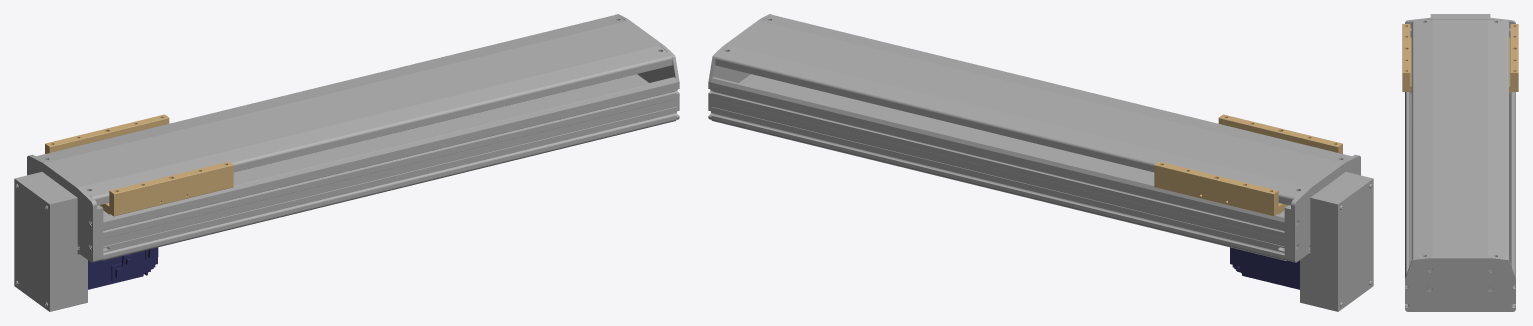
The model's file is ETH22_800.fbx.
3 renders of one model, left to right at view 1: azimuth 30°, elevation 25°; view 2: azimuth 150°, elevation 25°; view 3: azimuth 270°, elevation 25°, orthographic. The views are drawn at different scales.
Parts seen in each view (by area): view 1: ETH22_800-BODY, ETH22_800-SLIDER, ETH22_800-BODY001, ETH22_800-BODY002; view 2: ETH22_800-BODY, ETH22_800-SLIDER, ETH22_800-BODY001, ETH22_800-BODY002; view 3: ETH22_800-BODY, ETH22_800-BODY002, ETH22_800-SLIDER.
Boxes of the visible parts, x1,y1,x2,y2 form: ETH22_800-BODY: [14, 15, 676, 311]; ETH22_800-SLIDER: [45, 114, 233, 216]; ETH22_800-BODY001: [88, 247, 158, 289]; ETH22_800-BODY002: [615, 14, 679, 119]; ETH22_800-BODY: [711, 15, 1373, 311]; ETH22_800-SLIDER: [1154, 114, 1342, 216]; ETH22_800-BODY001: [1230, 247, 1299, 289]; ETH22_800-BODY002: [708, 14, 772, 119]; ETH22_800-BODY: [1405, 14, 1515, 306]; ETH22_800-BODY002: [1405, 257, 1515, 311]; ETH22_800-SLIDER: [1402, 24, 1518, 93].
Size of the model in its own units: 118 by 21.8 by 23.
